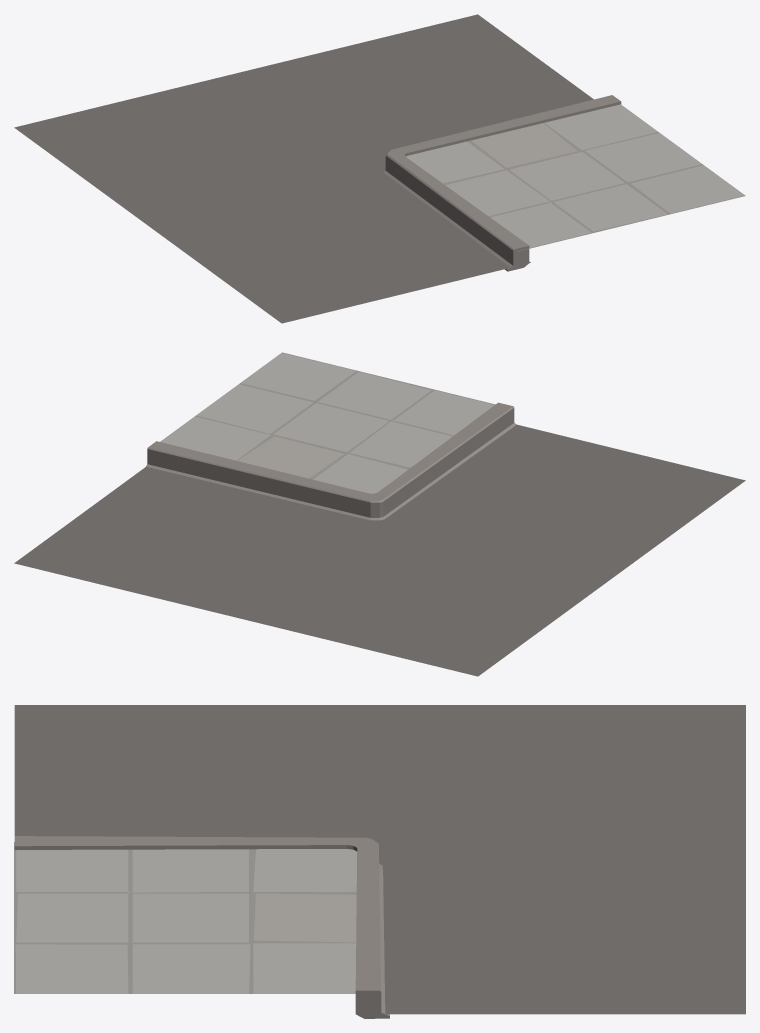
The model's file is Quarter Intersection.fbx.
The picture shows the model from 3 angles, top to bottom: view 1: azimuth 30°, elevation 25°; view 2: azimuth 150°, elevation 25°; view 3: azimuth 270°, elevation 25°; orthographic projection. The views are drawn at different scales.
Parts seen in each view (by area): view 1: Road_10; view 2: Road_10; view 3: Road_10.
Boxes of the visible parts, x1,y1,x2,y2 form: Road_10: (14,14,745,323); Road_10: (14,352,745,676); Road_10: (14,705,745,1018).
Size of the model in its own units: 610 by 26.04 by 610.
1 material, 1 textured.
